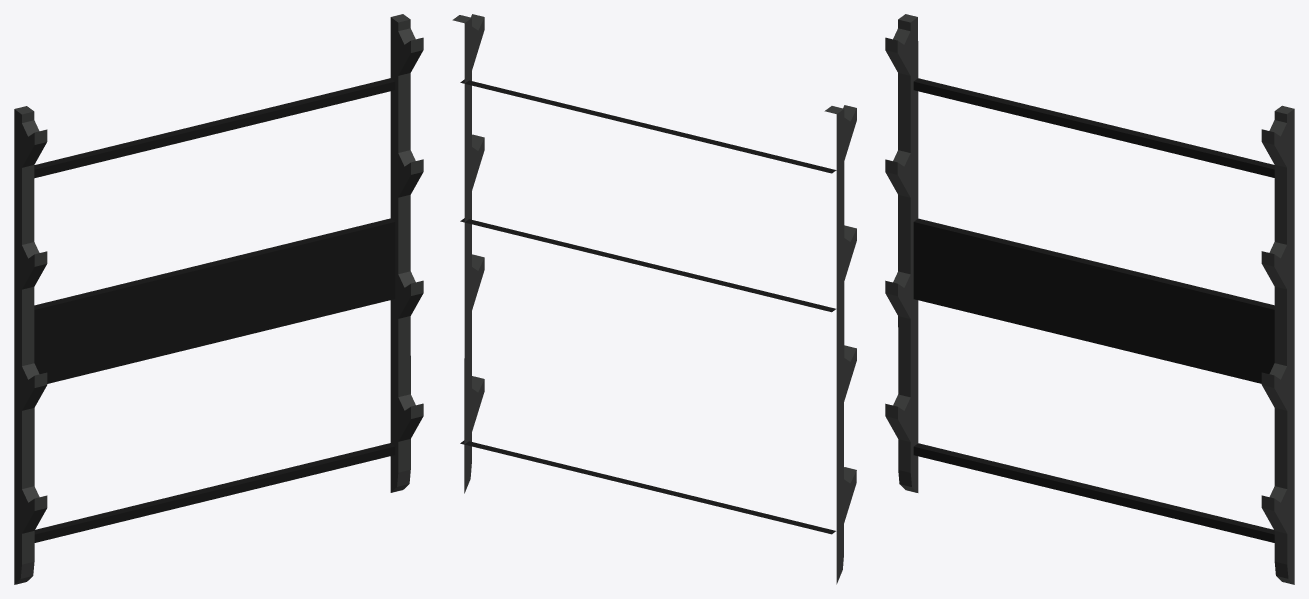
Rendered from GunRack.glb.
3 views of the same model, side by side, from view 1: azimuth 30°, elevation 25°; view 2: azimuth 150°, elevation 25°; view 3: azimuth 330°, elevation 25° (orthographic).
Visible parts, largest first — view 1: GunRack; view 2: GunRack; view 3: GunRack.
Boxes of the visible parts, x1,y1,x2,y2 form: GunRack: (14, 14, 423, 584); GunRack: (452, 14, 856, 584); GunRack: (885, 14, 1294, 584).
Bounding box in the file's own units: 1.03 × 1.2 × 0.0937.
1 material, 1 textured.
